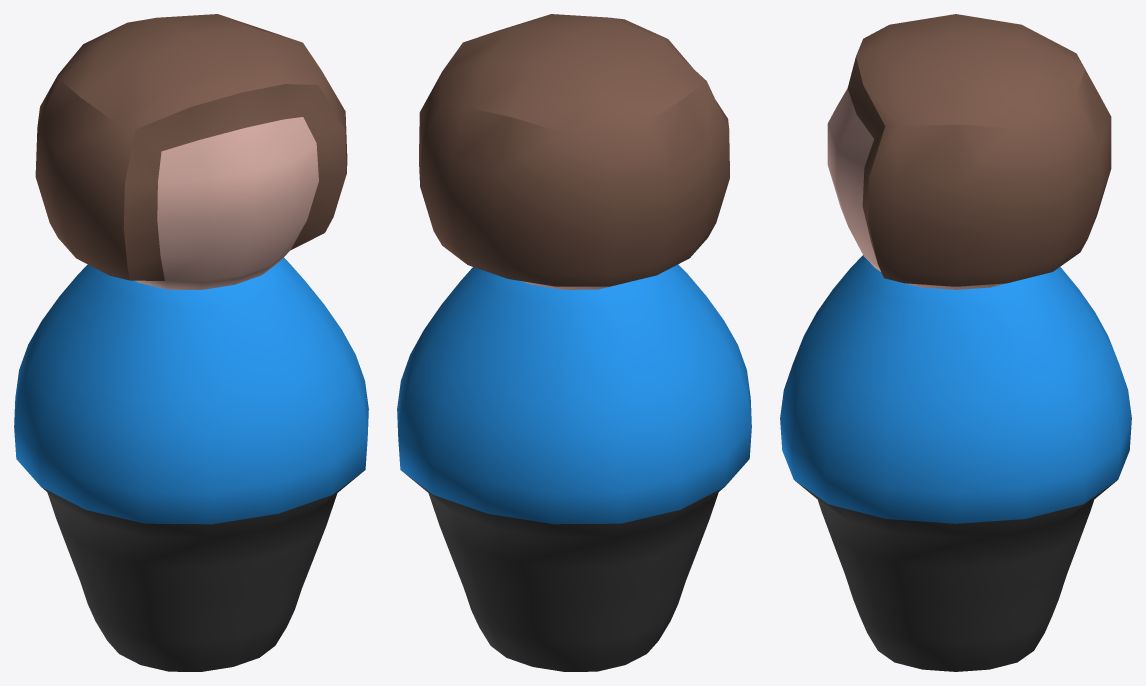
The model's file is char_female1.fbx.
3 views of the same model, side by side, from view 1: azimuth 30°, elevation 25°; view 2: azimuth 150°, elevation 25°; view 3: azimuth 270°, elevation 25° (orthographic).
Parts seen in each view (by area): view 1: char_female1; view 2: char_female1; view 3: char_female1.
Boxes of the visible parts, <box> form: char_female1: <box>14,14,368,671</box>; char_female1: <box>397,14,751,671</box>; char_female1: <box>780,14,1131,671</box>.
Size of the model in its own units: 104 by 195 by 104.
1 material, 1 textured.
